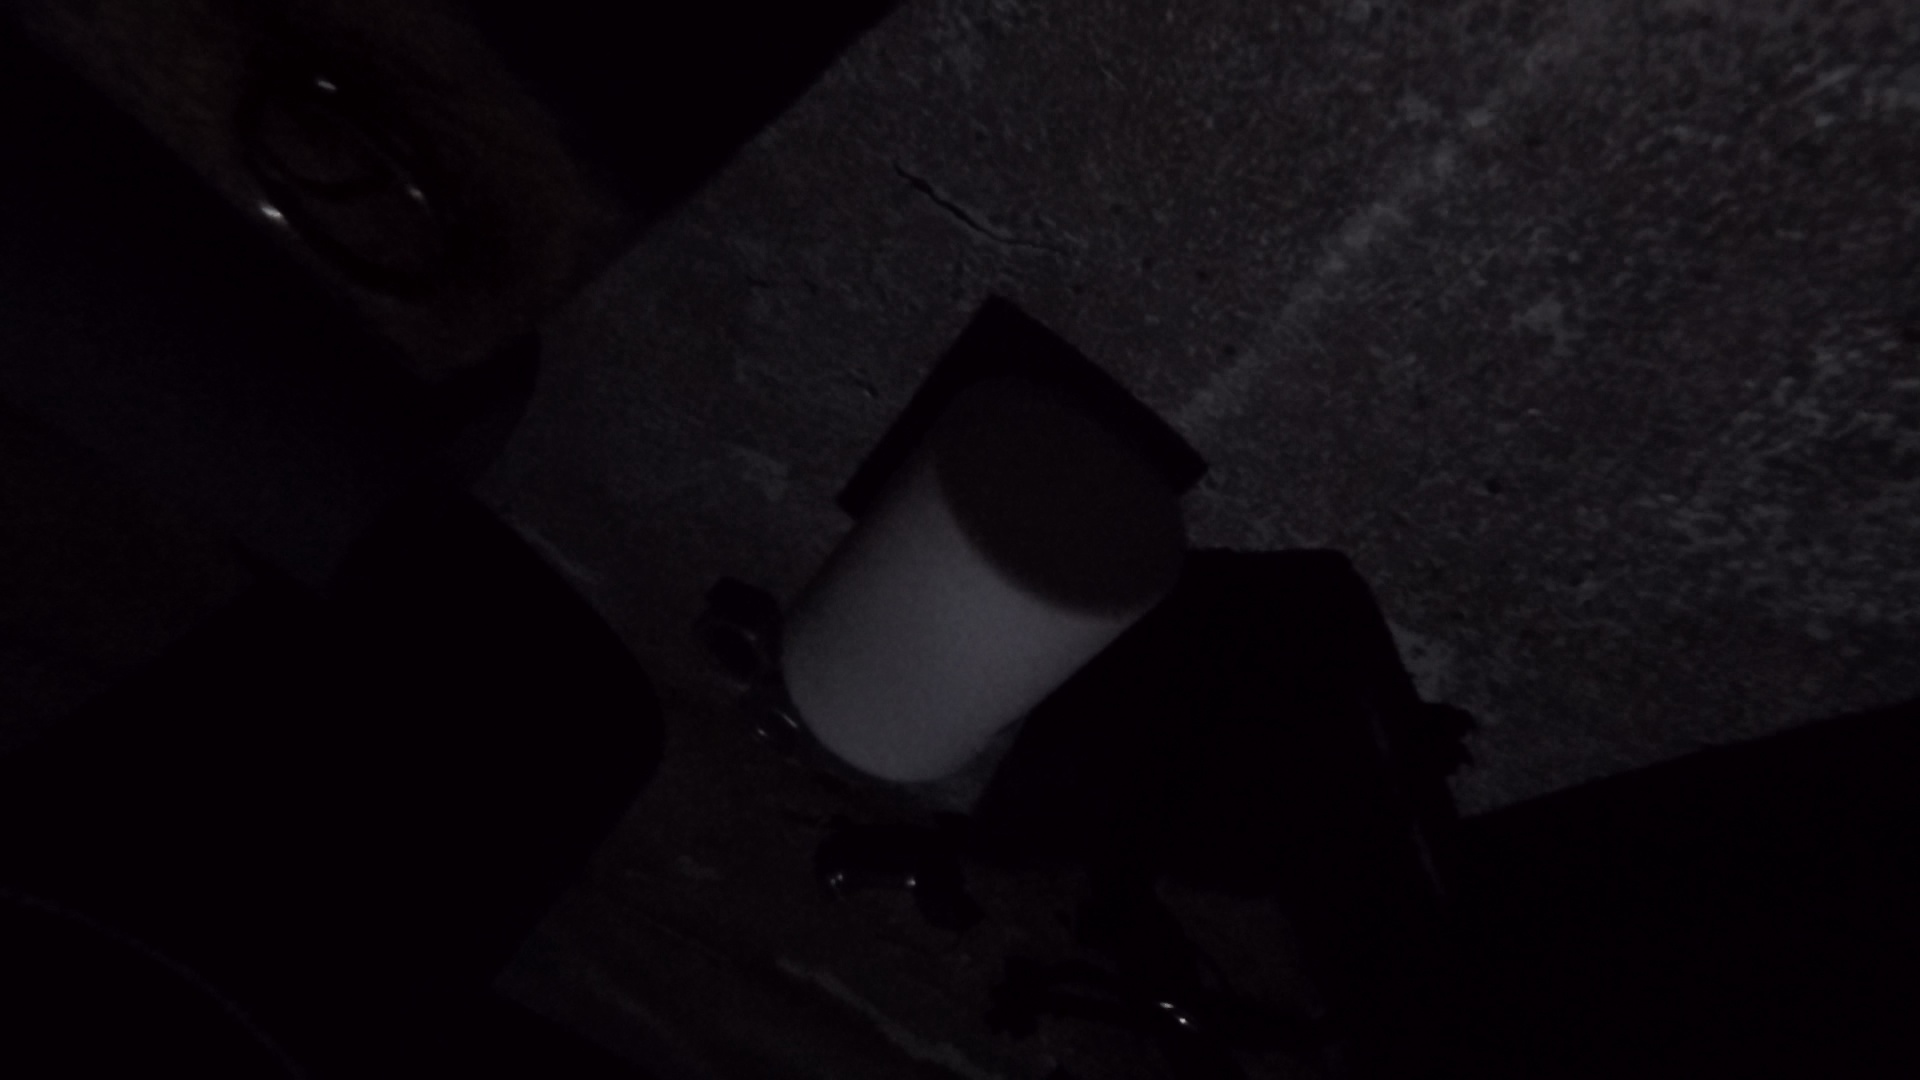bolt: (814, 847, 922, 902)
led_block: (1, 3, 897, 380), (960, 558, 1470, 1073)
nut: (691, 593, 775, 690)
pipe: (4, 484, 667, 1080), (1, 41, 543, 562), (777, 377, 1185, 786)
